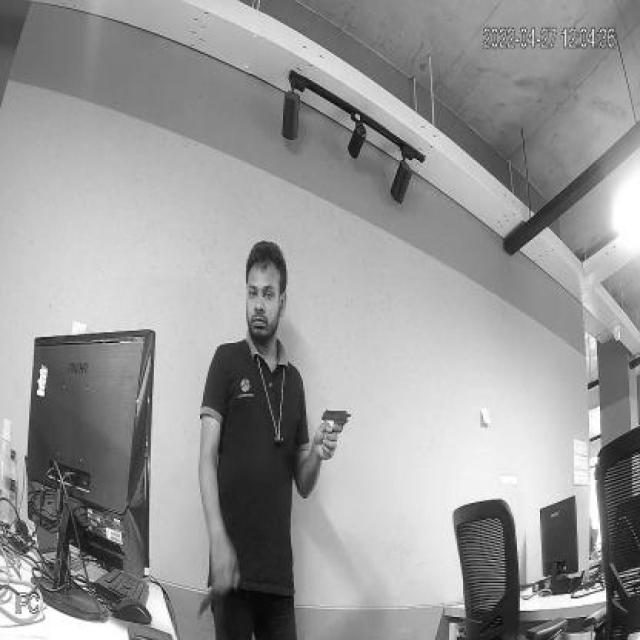weapon: (320, 406, 354, 449)
